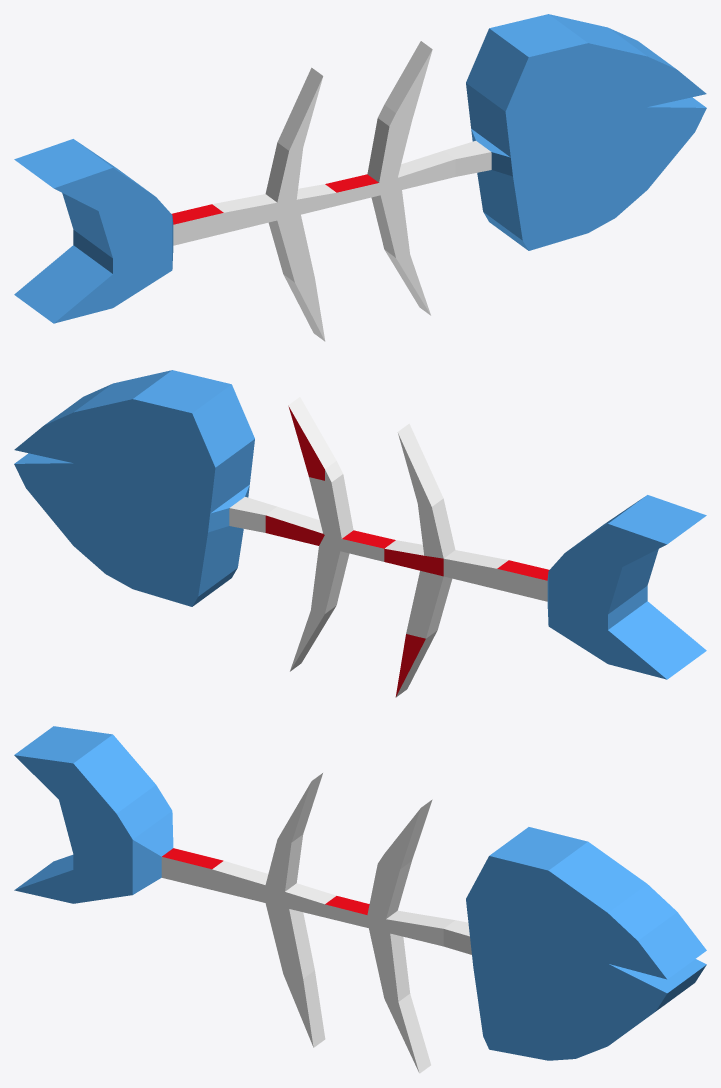
The model's file is poisson.fbx.
3 renders of one model, top to bottom at view 1: azimuth 30°, elevation 25°; view 2: azimuth 150°, elevation 25°; view 3: azimuth 330°, elevation 25°, orthographic.
Visible parts, largest first — view 1: Plan; view 2: Plan; view 3: Plan.
Part boxes in pixels (x1,y1,x2,y2): Plan: [14, 14, 706, 341]; Plan: [14, 370, 706, 697]; Plan: [14, 726, 706, 1073].
Bounding box in the file's own units: 147 × 57.14 × 15.42.
